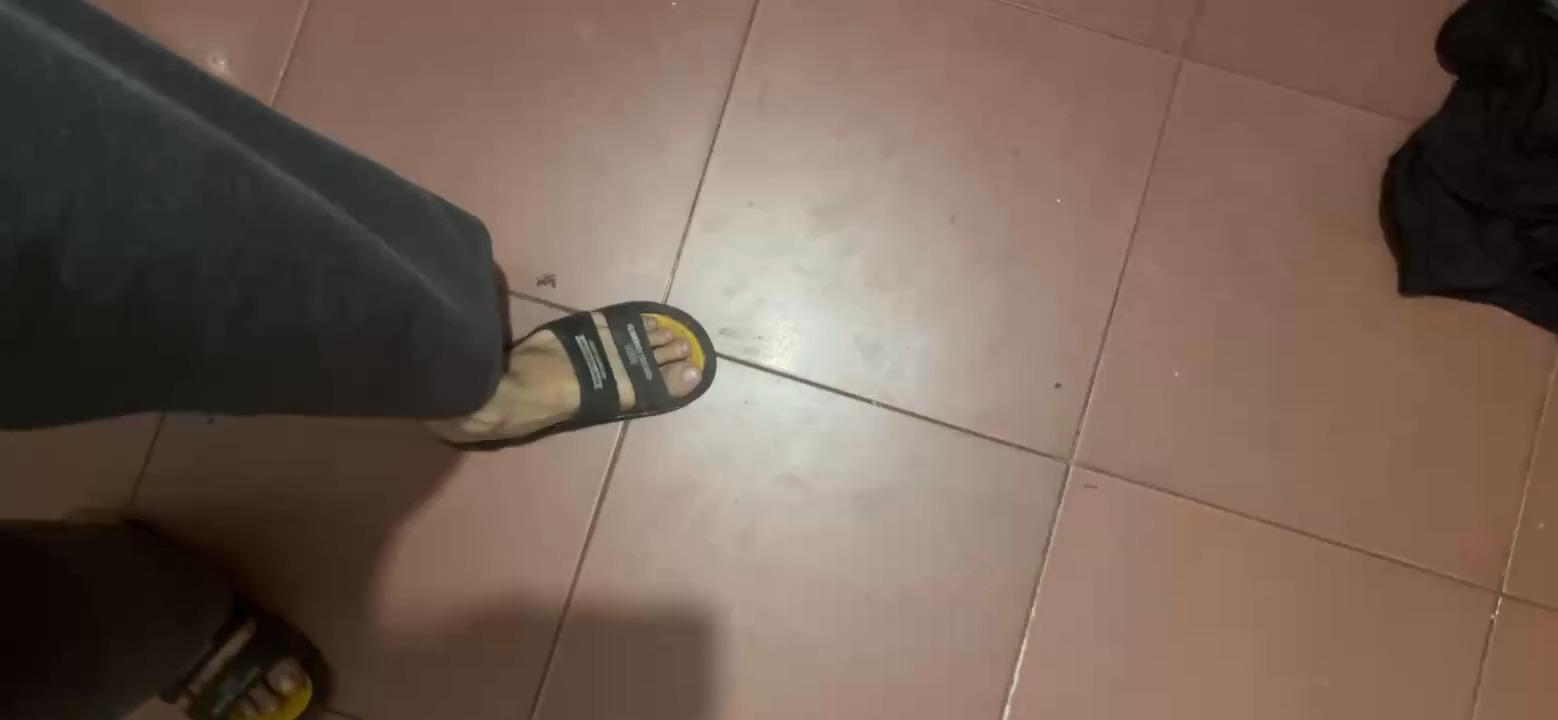no-boot: (421, 289, 734, 443), (107, 541, 327, 720)
